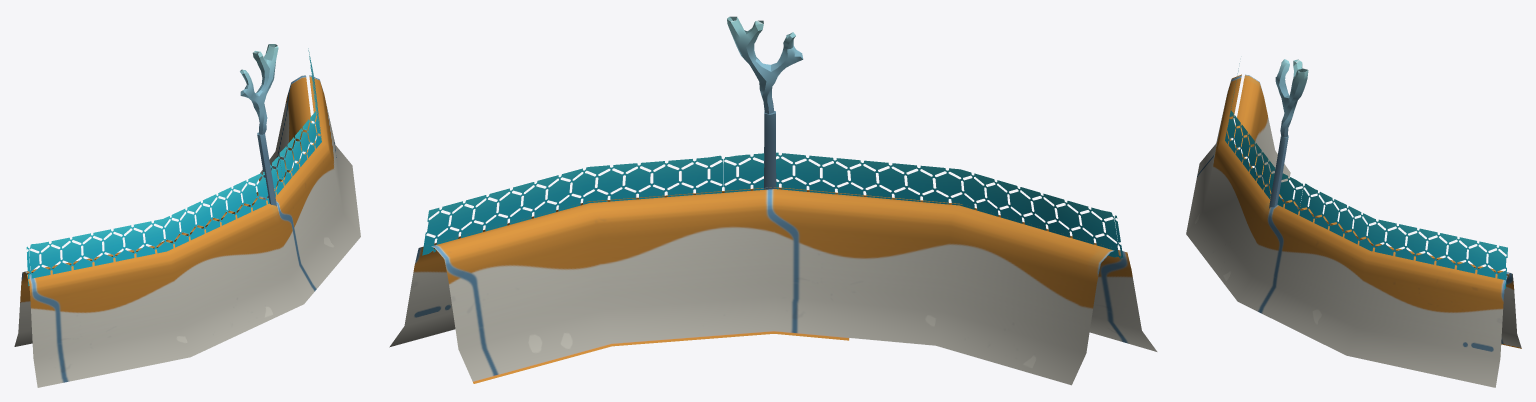
File: mur_tp_bis (1).fbx
3 renders of one model, left to right at view 1: azimuth 30°, elevation 25°; view 2: azimuth 150°, elevation 25°; view 3: azimuth 270°, elevation 25°, orthographic. The views are drawn at different scales.
Visible parts, largest first — view 1: S_Wall_02; view 2: S_Wall_02; view 3: S_Wall_02.
Part boxes in pixels (x1,y1,x2,y2): S_Wall_02: (14, 44, 360, 387); S_Wall_02: (389, 16, 1157, 385); S_Wall_02: (1186, 59, 1521, 387).
Size of the model in its own units: 641 by 314 by 405.
1 material, 1 textured.
